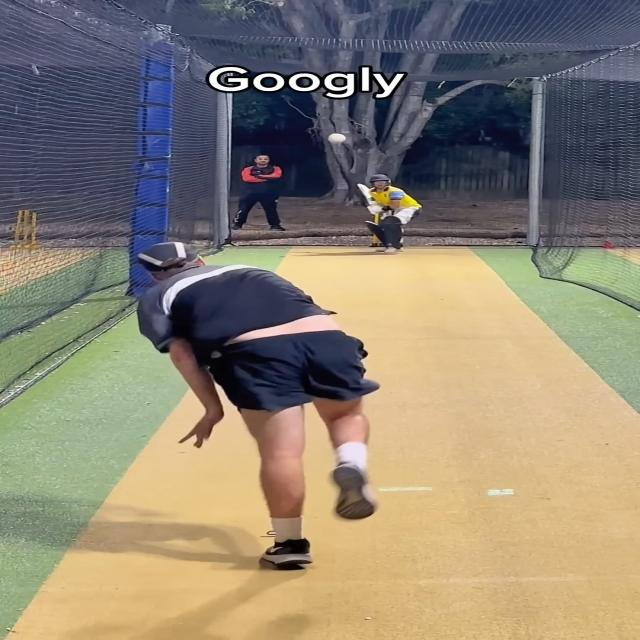Cricket ball: (328, 133, 347, 144)
